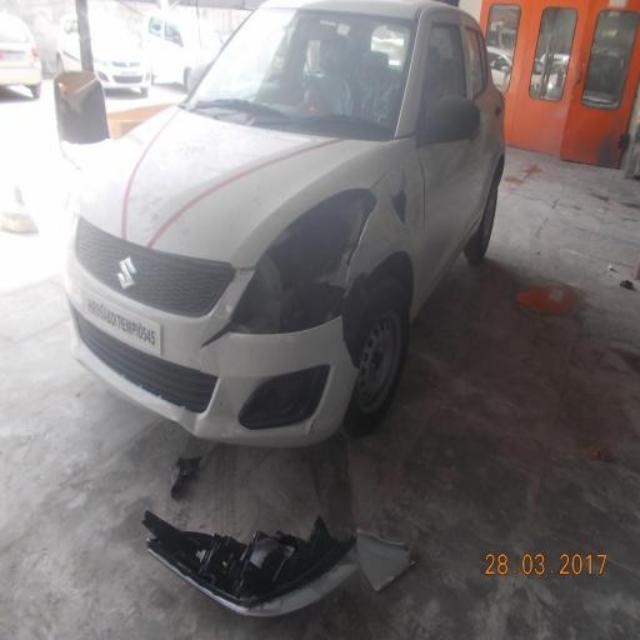crack: (196, 320, 238, 352)
no part: (229, 191, 377, 340), (239, 366, 330, 433), (339, 273, 373, 374), (393, 177, 410, 224)
